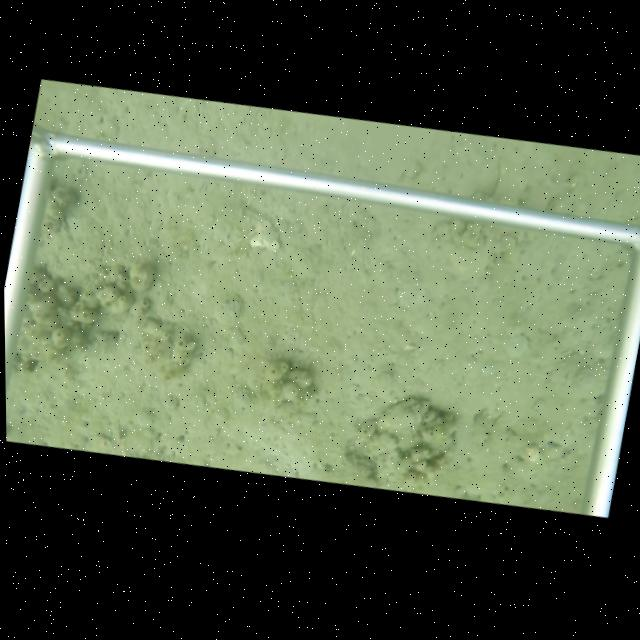Oyster-Indeterminate: (376, 394, 432, 435)
